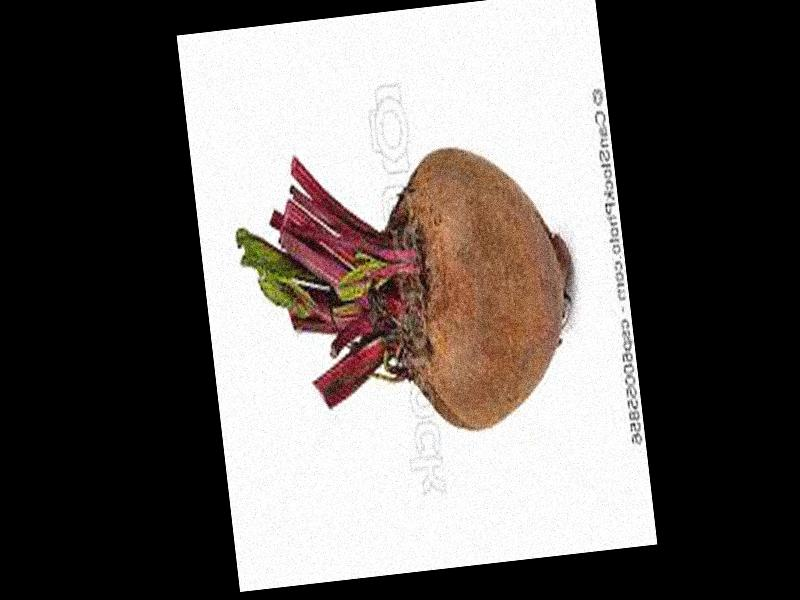Beet: (228, 128, 588, 457)
